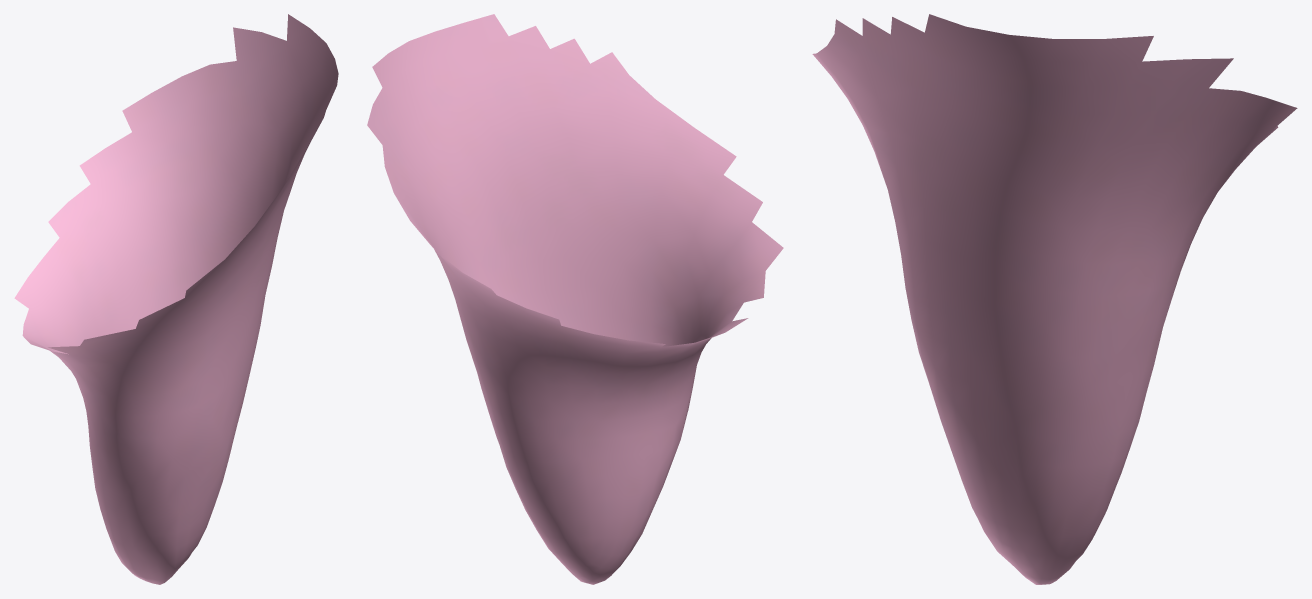
File: Pato PDD.obj
3 renders of one model, left to right at view 1: azimuth 30°, elevation 25°; view 2: azimuth 150°, elevation 25°; view 3: azimuth 270°, elevation 25°, orthographic. The views are drawn at different scales.
Parts seen in each view (by area): view 1: Pata_delantera_Der; view 2: Pata_delantera_Der; view 3: Pata_delantera_Der.
Part boxes in pixels (x1,y1,x2,y2): Pata_delantera_Der: [14, 14, 338, 584]; Pata_delantera_Der: [367, 14, 783, 584]; Pata_delantera_Der: [812, 14, 1297, 584].
Size of the model in its own units: 0.0329 by 0.0492 by 0.0328.
